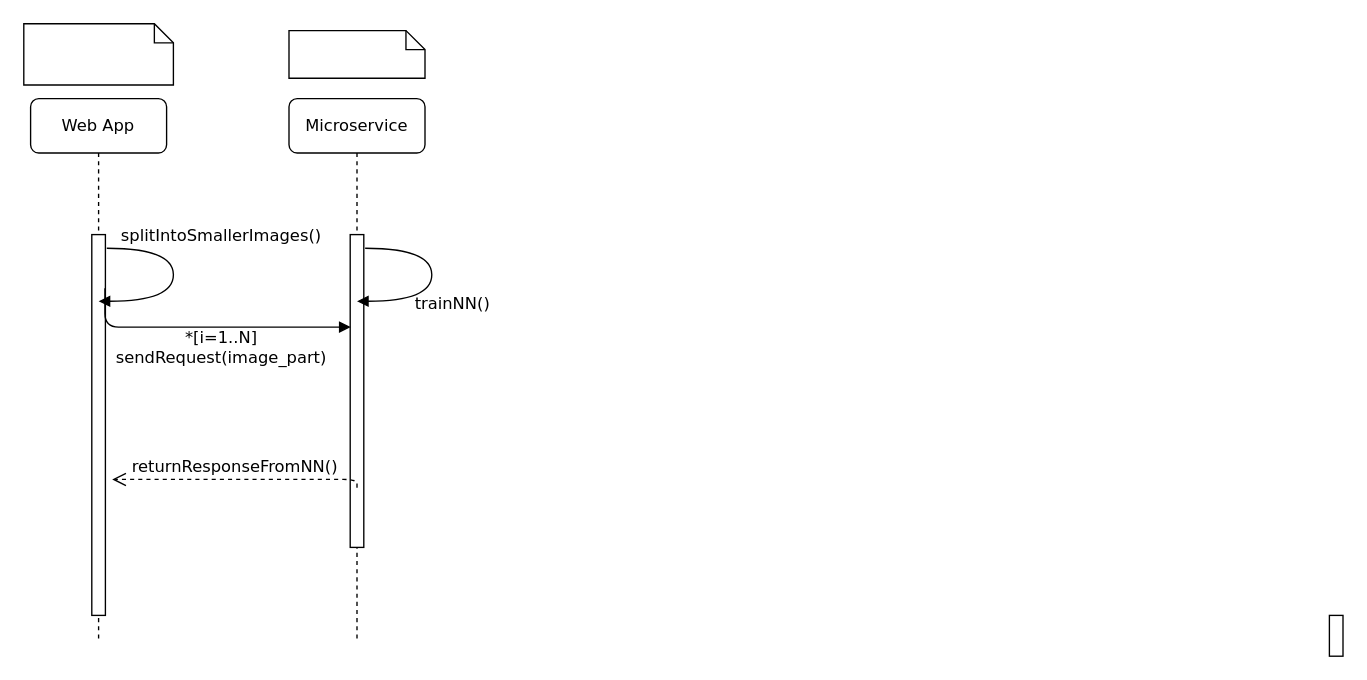
Some shapes in this 1367 by 680 pixel diagram are drawn without their labels. The shapes that lost their labels are listed below. From the top down, each one's centre as x and y in pixels, then its label:
the point at 97,53: Sends requests to microservice
the point at 356,53: Engine of the project
